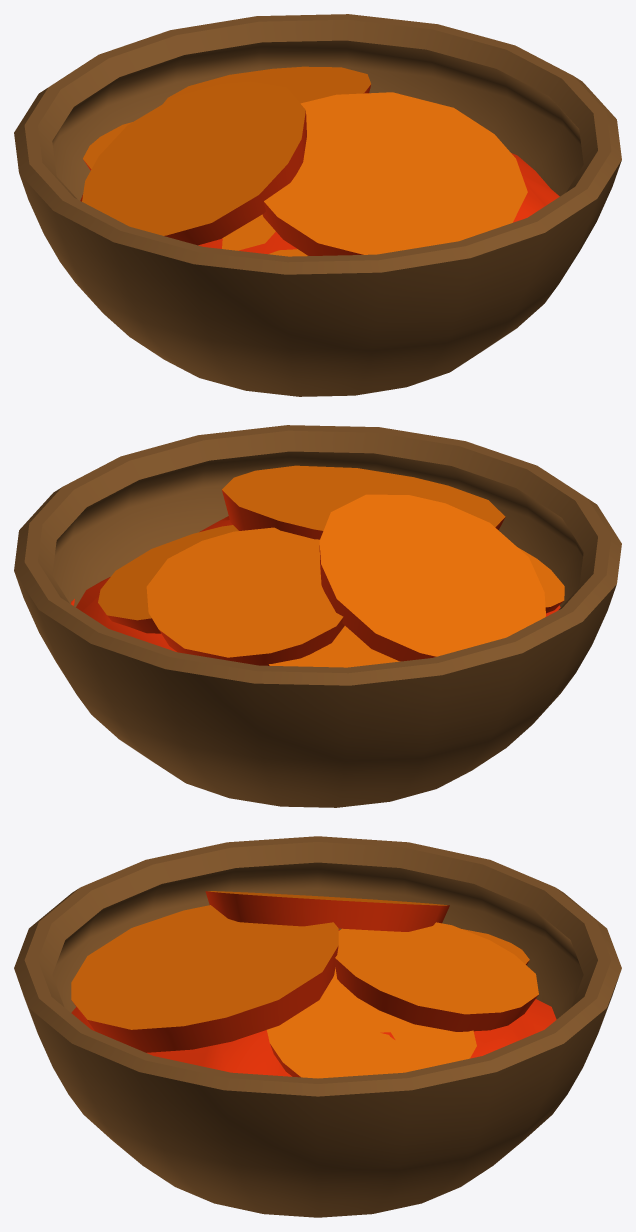
The model's file is mesh_tomato_bowl_full.fbx.
The picture shows the model from 3 angles, top to bottom: view 1: azimuth 30°, elevation 25°; view 2: azimuth 150°, elevation 25°; view 3: azimuth 270°, elevation 25°; orthographic projection.
Visible parts, largest first — view 1: mesh_tomato_bowl_empty, mesh_tomato_bowl_contents1; view 2: mesh_tomato_bowl_empty, mesh_tomato_bowl_contents1; view 3: mesh_tomato_bowl_empty, mesh_tomato_bowl_contents1.
Boxes of the visible parts, x1,y1,x2,y2 form: mesh_tomato_bowl_empty: (14, 14, 621, 396); mesh_tomato_bowl_contents1: (80, 66, 559, 256); mesh_tomato_bowl_empty: (14, 425, 621, 807); mesh_tomato_bowl_contents1: (71, 465, 564, 667); mesh_tomato_bowl_empty: (14, 836, 621, 1217); mesh_tomato_bowl_contents1: (71, 891, 556, 1078).
Size of the model in its own units: 0.2166 by 0.0912 by 0.2167.
